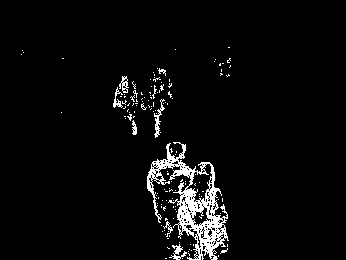person: (146, 139, 199, 257), (179, 160, 230, 260), (145, 67, 172, 139), (113, 74, 140, 136)
